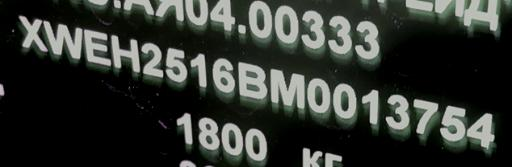letter: (42, 17, 86, 59), (266, 69, 304, 114), (234, 61, 266, 110), (408, 94, 440, 142), (108, 29, 140, 75), (466, 108, 496, 152), (329, 79, 357, 126), (208, 55, 236, 100), (442, 100, 468, 146), (81, 27, 109, 69), (14, 12, 44, 51), (357, 84, 381, 132), (385, 92, 409, 138), (304, 76, 328, 119), (162, 45, 188, 84), (140, 41, 162, 83), (188, 50, 208, 91)
